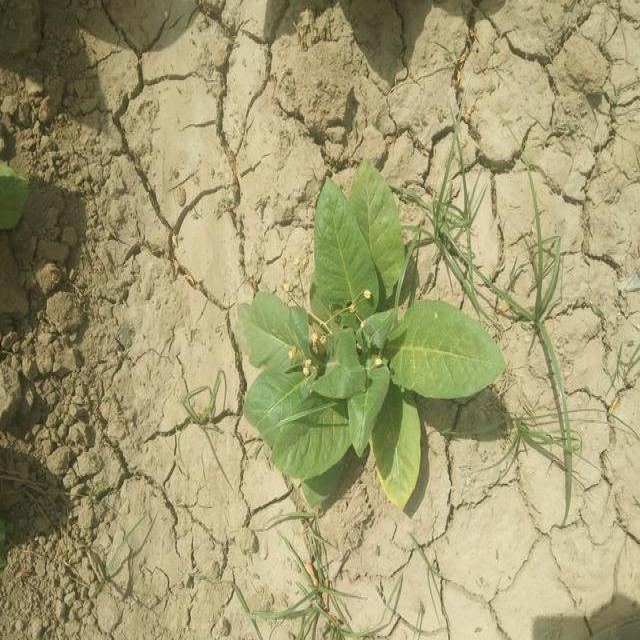crop: (238, 154, 510, 520)
